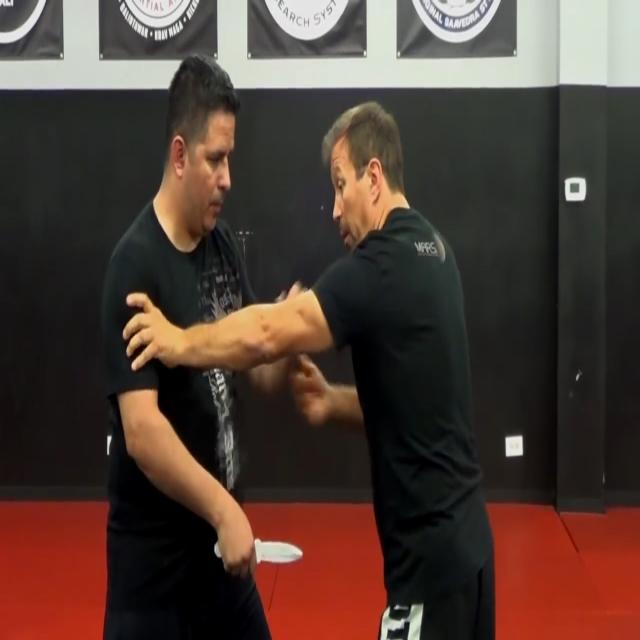knife: (254, 536, 305, 570)
